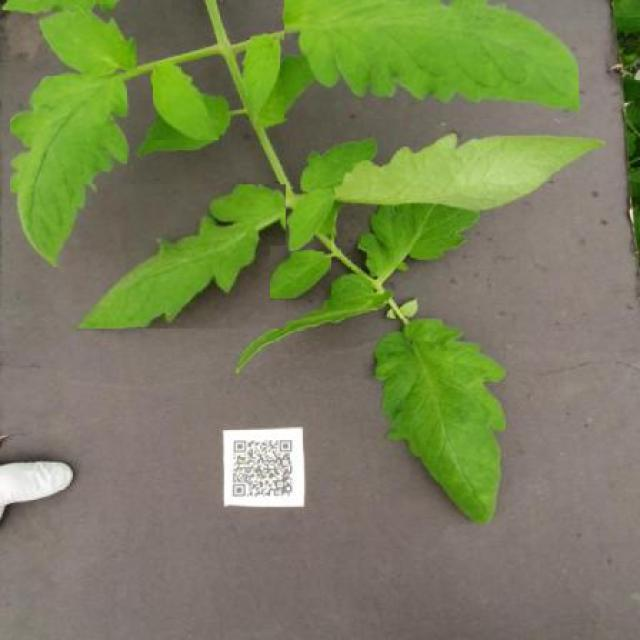Healthy: (284, 0, 579, 119), (71, 184, 286, 329), (374, 319, 506, 525), (11, 72, 128, 267), (37, 4, 137, 76), (153, 64, 218, 140), (270, 246, 331, 300), (286, 188, 334, 252)
